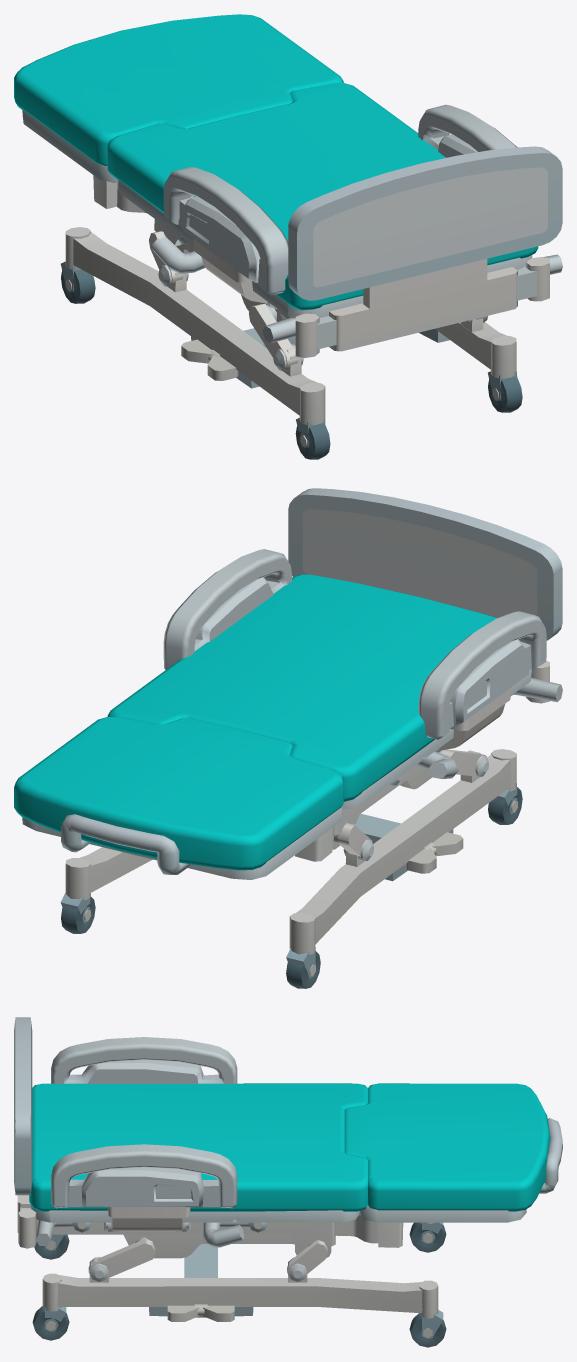
File: Pfb_JLAB_Bed.fbx
The picture shows the model from 3 angles, top to bottom: view 1: azimuth 30°, elevation 25°; view 2: azimuth 150°, elevation 25°; view 3: azimuth 270°, elevation 25°; orthographic projection. The views are drawn at different scales.
Visible parts, largest first — view 1: Color; view 2: Color; view 3: Color.
Boxes of the visible parts, bbox=[...] form: Color: bbox=[14, 14, 562, 459]; Color: bbox=[14, 488, 562, 988]; Color: bbox=[14, 1017, 562, 1347].
Size of the model in its own units: 1.16 by 1.04 by 2.15.
Materials: 1 (1 with a texture image).
